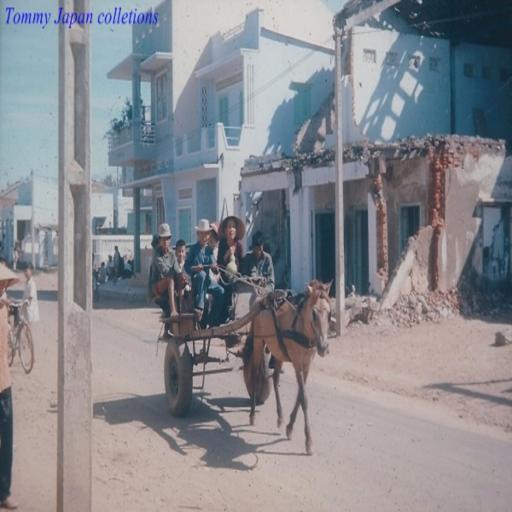horse: (238, 276, 336, 458)
